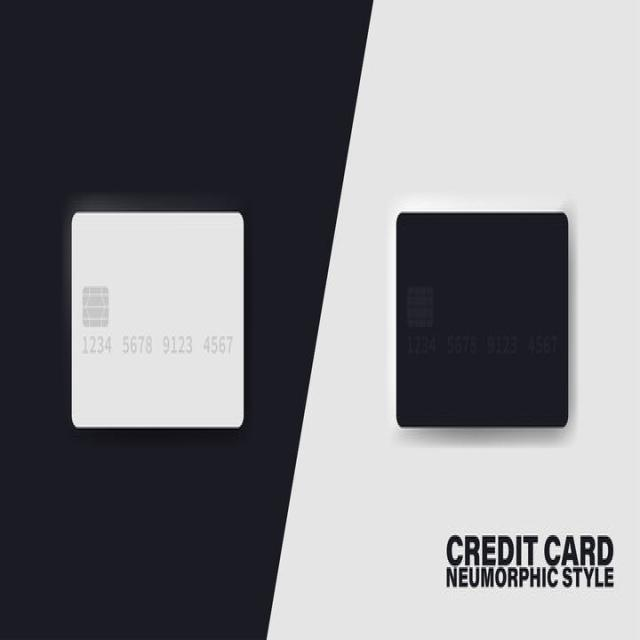payment_card: (69, 209, 245, 429), (394, 210, 570, 428)
